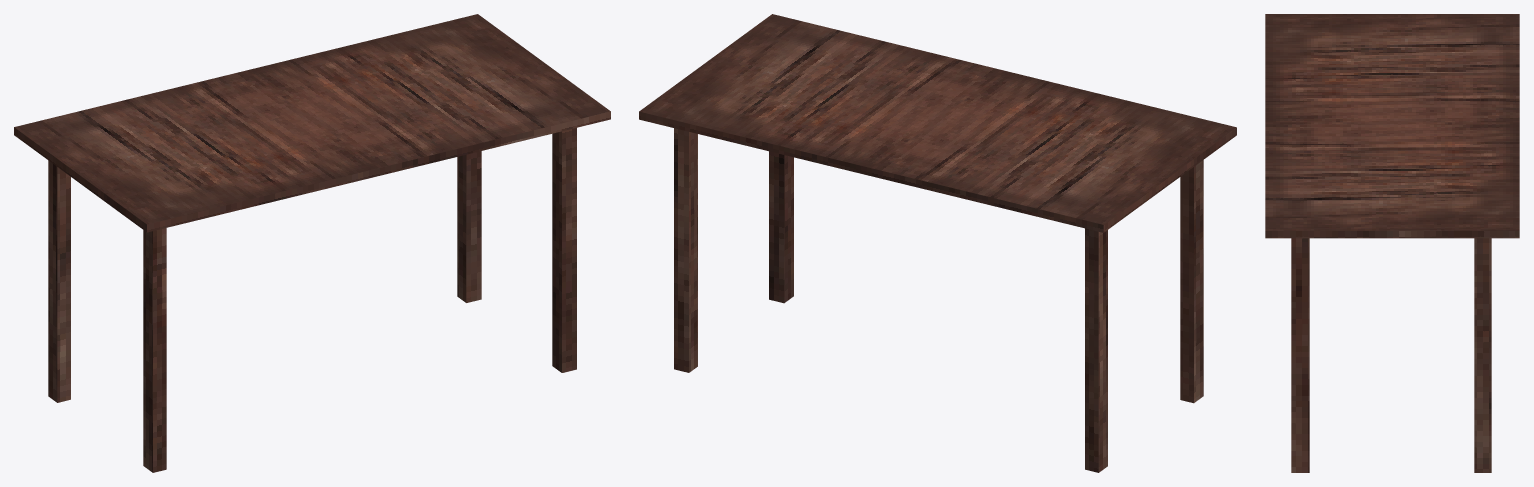
The model's file is Table.glb.
3 views of the same model, side by side, from view 1: azimuth 30°, elevation 25°; view 2: azimuth 150°, elevation 25°; view 3: azimuth 270°, elevation 25° (orthographic). The views are drawn at different scales.
Visible parts, largest first — view 1: Cube.002; view 2: Cube.002; view 3: Cube.002.
Boxes of the visible parts, <box> form: Cube.002: <box>14,14,610,472</box>; Cube.002: <box>639,14,1236,472</box>; Cube.002: <box>1265,14,1519,472</box>.
Size of the model in its own units: 6.72 by 3.64 by 3.34.
Materials: 1 (1 with a texture image).
